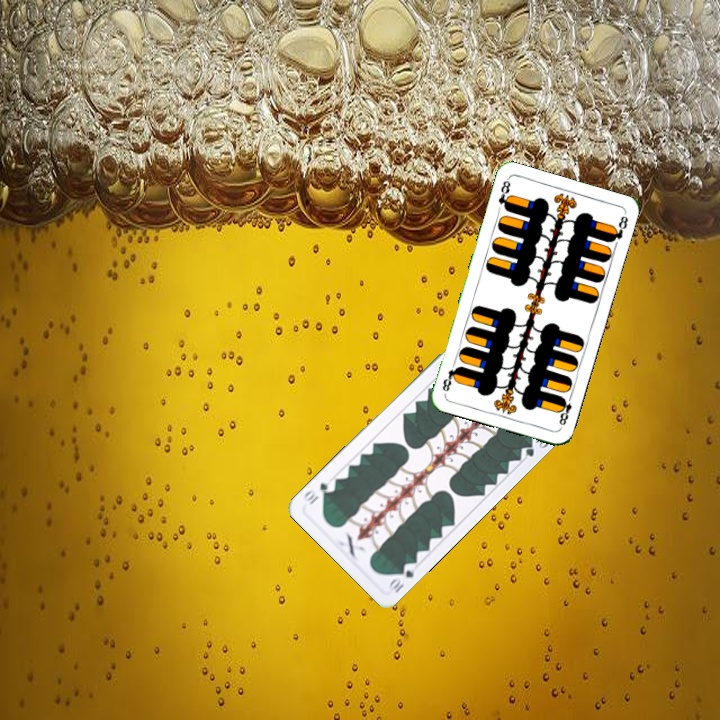E8: (555, 391, 575, 431), (494, 175, 513, 213)
G10: (384, 558, 417, 596)
